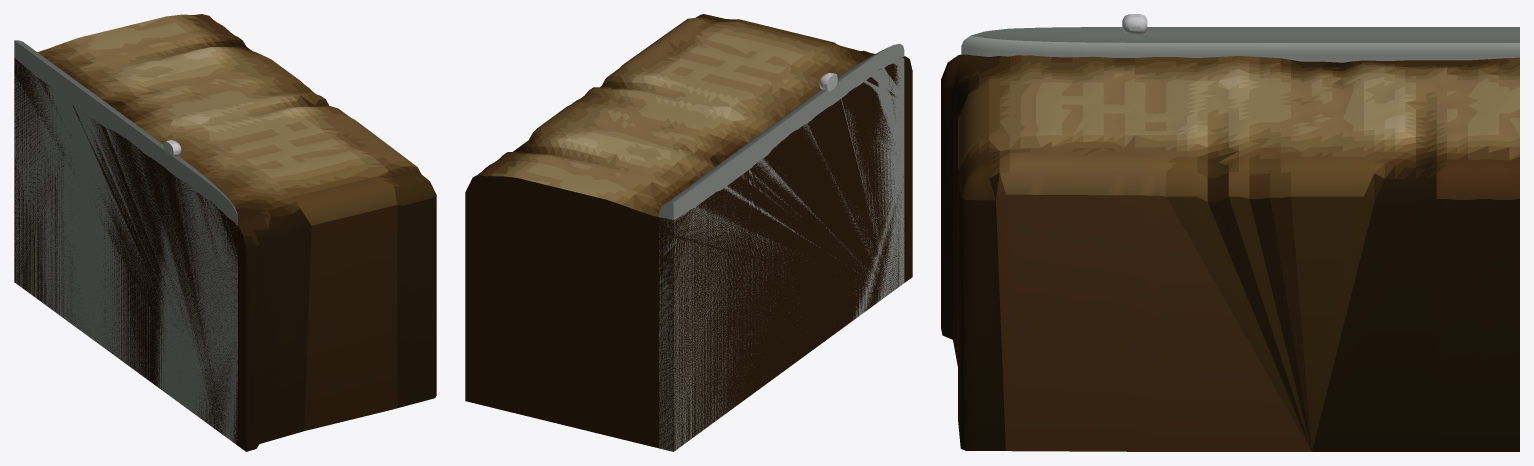
Rendered from skull_chest_b4.glb.
3 views of the same model, side by side, from view 1: azimuth 30°, elevation 25°; view 2: azimuth 150°, elevation 25°; view 3: azimuth 270°, elevation 25° (orthographic). The views are drawn at different scales.
Visible parts, largest first — view 1: body, strap1; view 2: body, strap1; view 3: body, strap1.
Part boxes in pixels (x1,y1,x2,y2): body: (14,14,436,451); strap1: (14,40,237,443); body: (465,14,912,451); strap1: (659,44,904,451); body: (941,54,1519,451); strap1: (961,27,1519,62).
Size of the model in its own units: 14 by 16.7 by 27.82.
